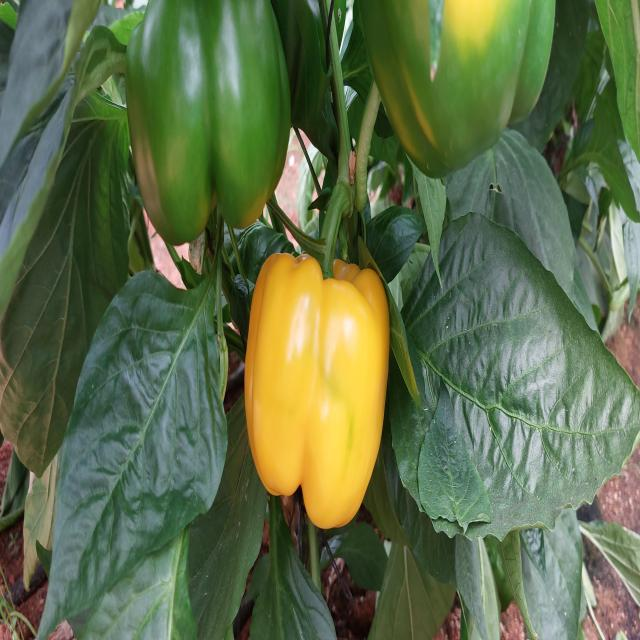Green--Not-ready-to-harvest: (126, 5, 283, 212)
GreenishYellow--Can-be-Harvested: (358, 5, 566, 178)
Yellow-Ready-to-Harvest: (242, 233, 394, 550)
